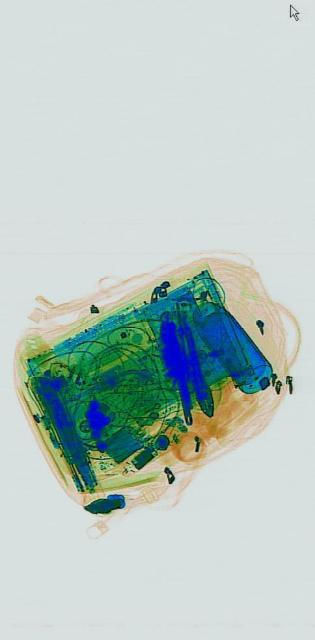Pliers: (168, 317, 218, 427)
